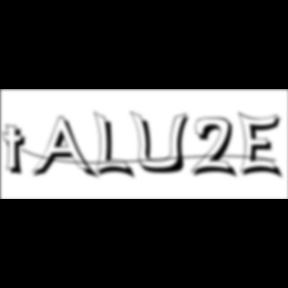2: (192, 117, 242, 181)
A: (31, 116, 100, 182)
E: (238, 110, 288, 182)
L: (94, 110, 138, 182)
U: (130, 110, 194, 176)
t: (2, 124, 34, 179)
